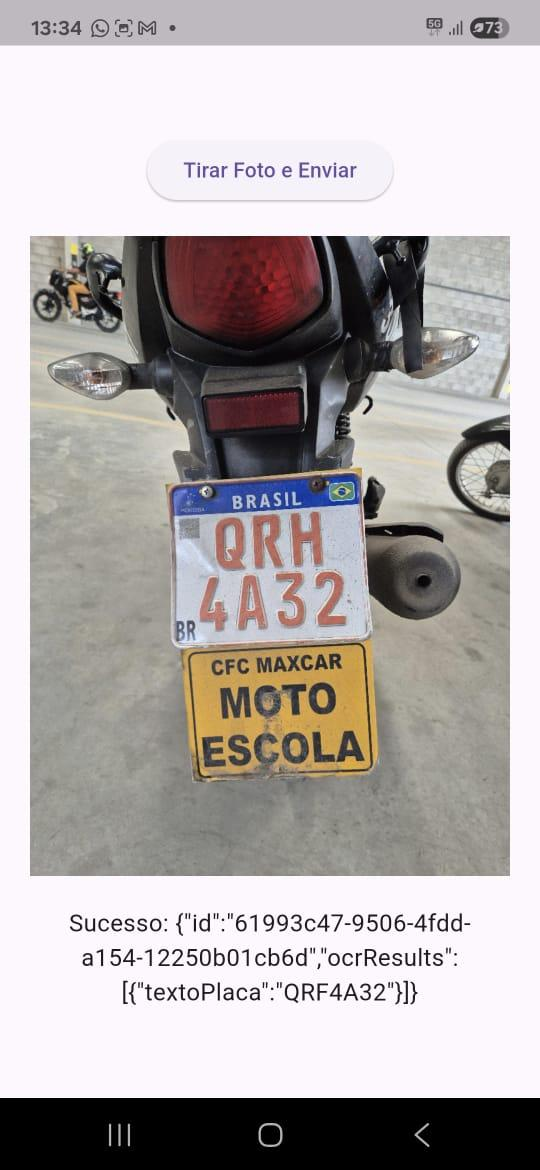placa_mercosul: (173, 467, 368, 650)
